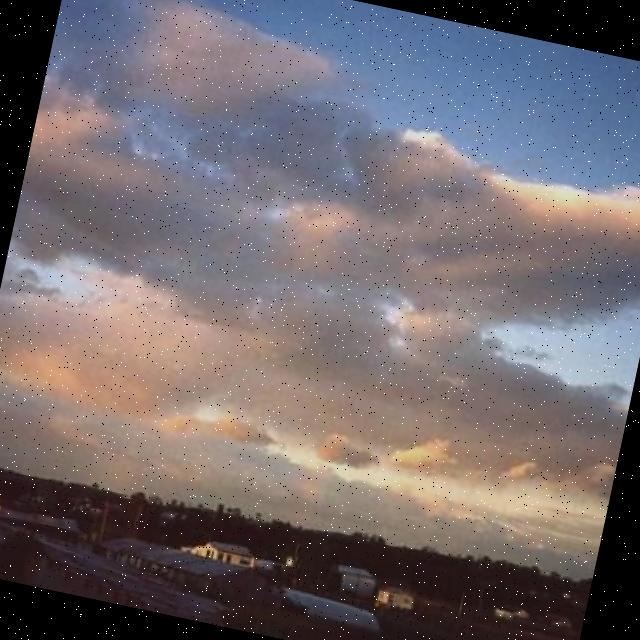St: (1, 1, 640, 426)
